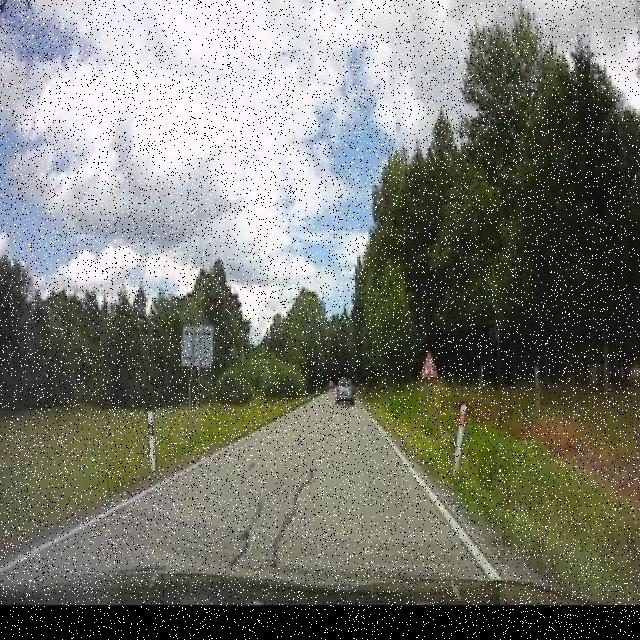clear-road: (149, 396, 455, 552)
